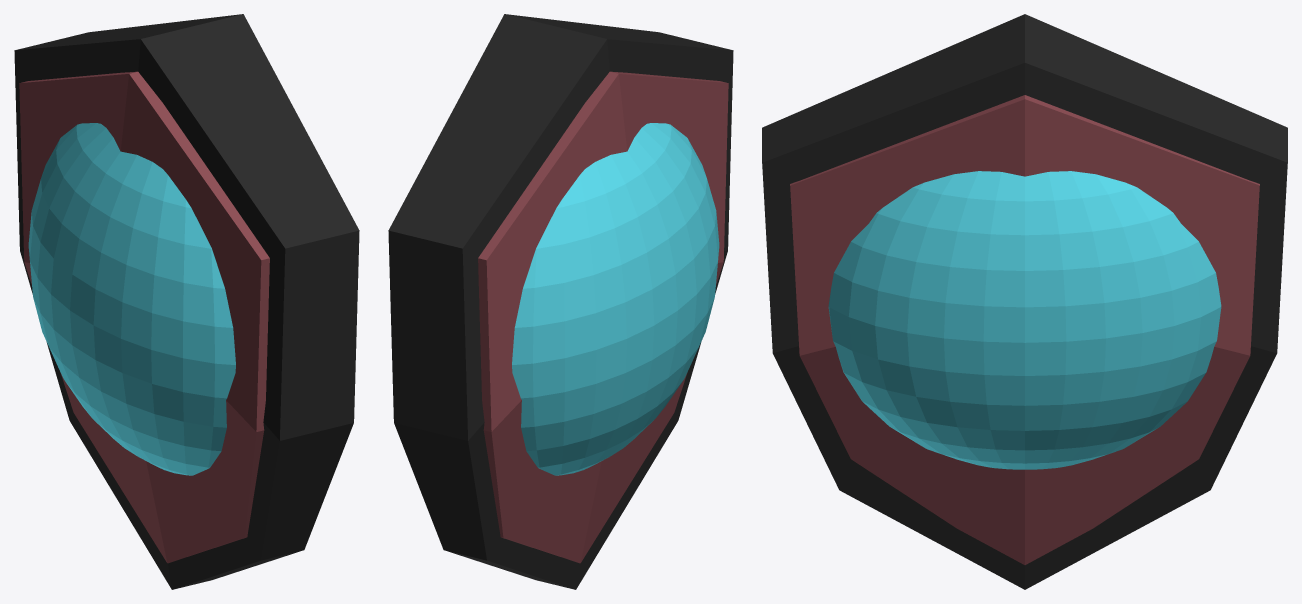
The model's file is shieldTears.fbx.
3 renders of one model, left to right at view 1: azimuth 30°, elevation 25°; view 2: azimuth 150°, elevation 25°; view 3: azimuth 270°, elevation 25°, orthographic. The views are drawn at different scales.
Visible parts, largest first — view 1: Shield; view 2: Shield; view 3: Shield.
Boxes of the visible parts, <box> form: Shield: <box>14,14,359,589</box>; Shield: <box>388,14,733,589</box>; Shield: <box>762,14,1287,589</box>.
Size of the model in its own units: 186 by 407 by 358.
